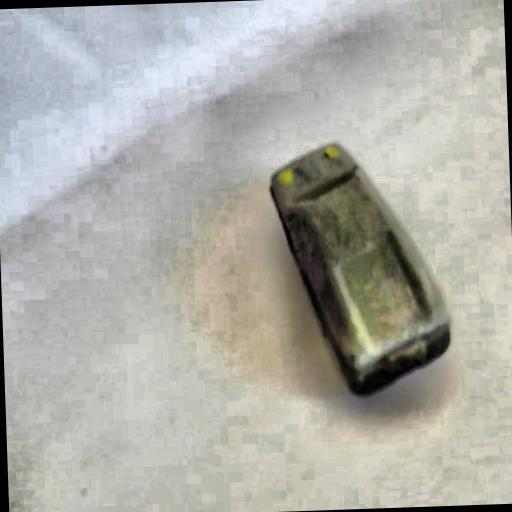normal_car: (261, 133, 456, 406)
